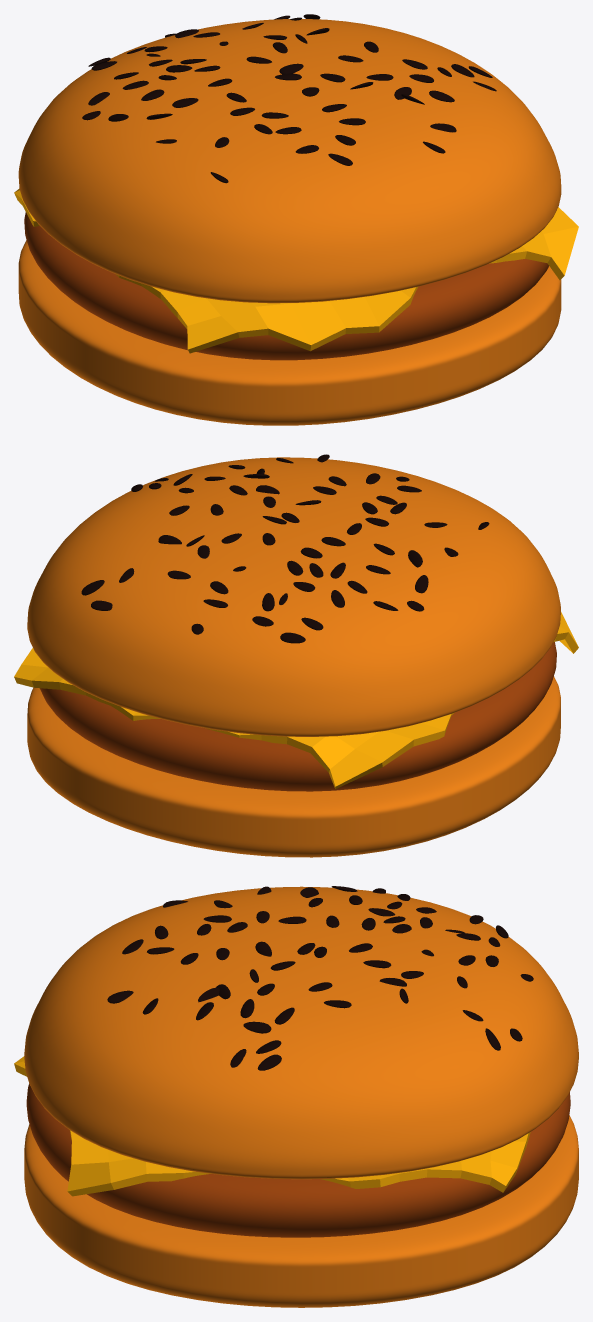
Rendered from hamburger.glb.
3 renders of one model, top to bottom at view 1: azimuth 30°, elevation 25°; view 2: azimuth 150°, elevation 25°; view 3: azimuth 270°, elevation 25°, orthographic. The views are drawn at different scales.
Visible parts, largest first — view 1: Cube.002, Cube, Cube.001, Plane; view 2: Cube.002, Cube, Cube.001, Plane; view 3: Cube.002, Cube, Cube.001, Plane.
Part boxes in pixels (bbox=[...]): Cube.002: bbox=[18, 19, 561, 303]; Cube: bbox=[18, 240, 561, 425]; Cube.001: bbox=[24, 212, 548, 360]; Plane: bbox=[14, 188, 578, 353]; Cube.002: bbox=[27, 457, 560, 736]; Cube: bbox=[27, 676, 560, 857]; Cube.001: bbox=[40, 642, 556, 791]; Plane: bbox=[14, 612, 578, 789]; Cube.002: bbox=[24, 886, 578, 1179]; Cube: bbox=[24, 1115, 578, 1307]; Cube.001: bbox=[26, 1083, 570, 1237]; Plane: bbox=[14, 1056, 530, 1196].
Size of the model in its own units: 5.5 by 2.99 by 5.6.
